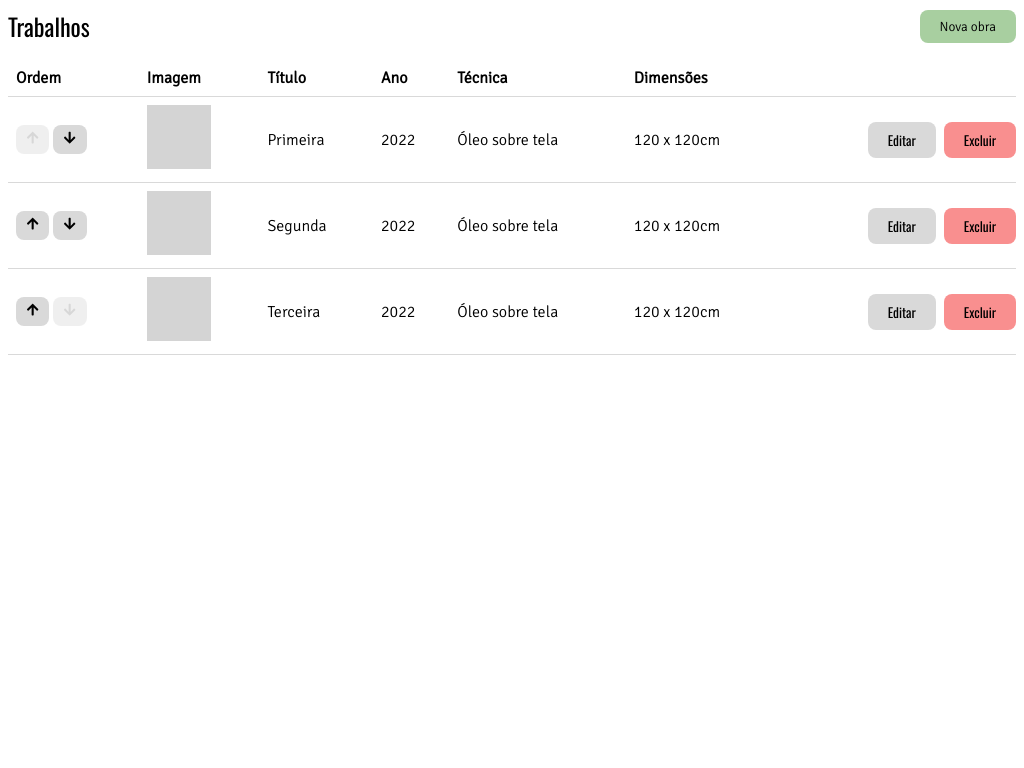
requires a title and an image for a new obra
Expected: the text "Primeira" is shown, x1=260 y1=96 x2=373 y2=182
Click the button "Nova obra". click: (968, 26)
box: x1=920 y1=10 x2=1016 y2=42
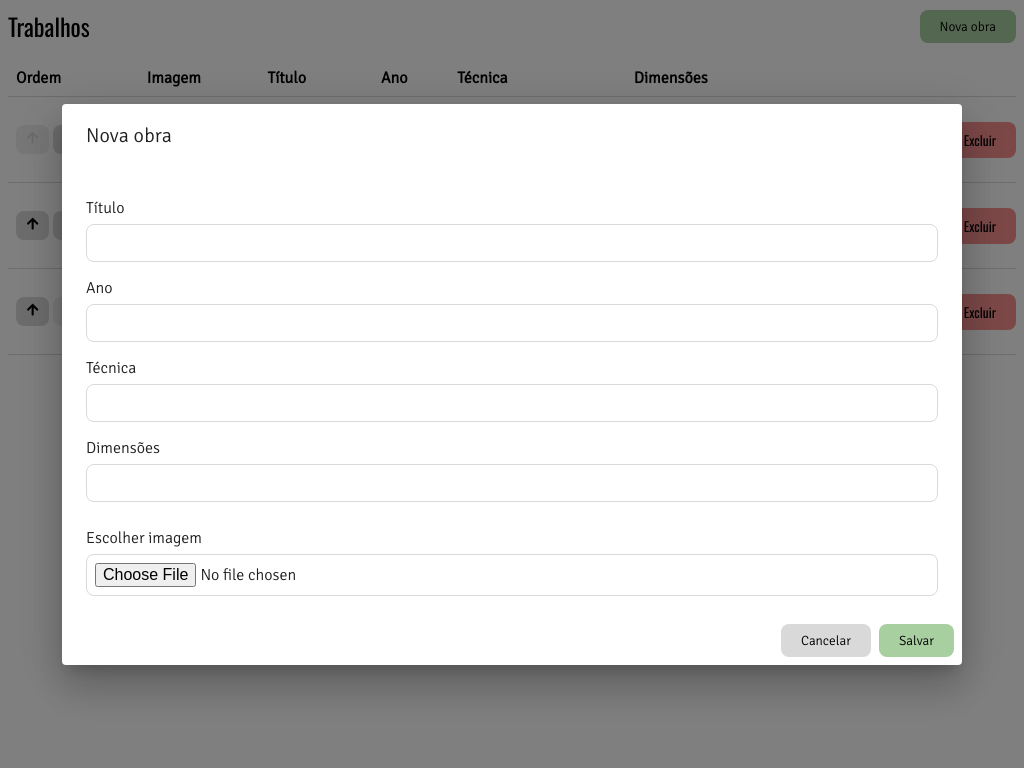
Click the button "Salvar". click: (916, 640)
box: x1=879 y1=624 x2=954 y2=656
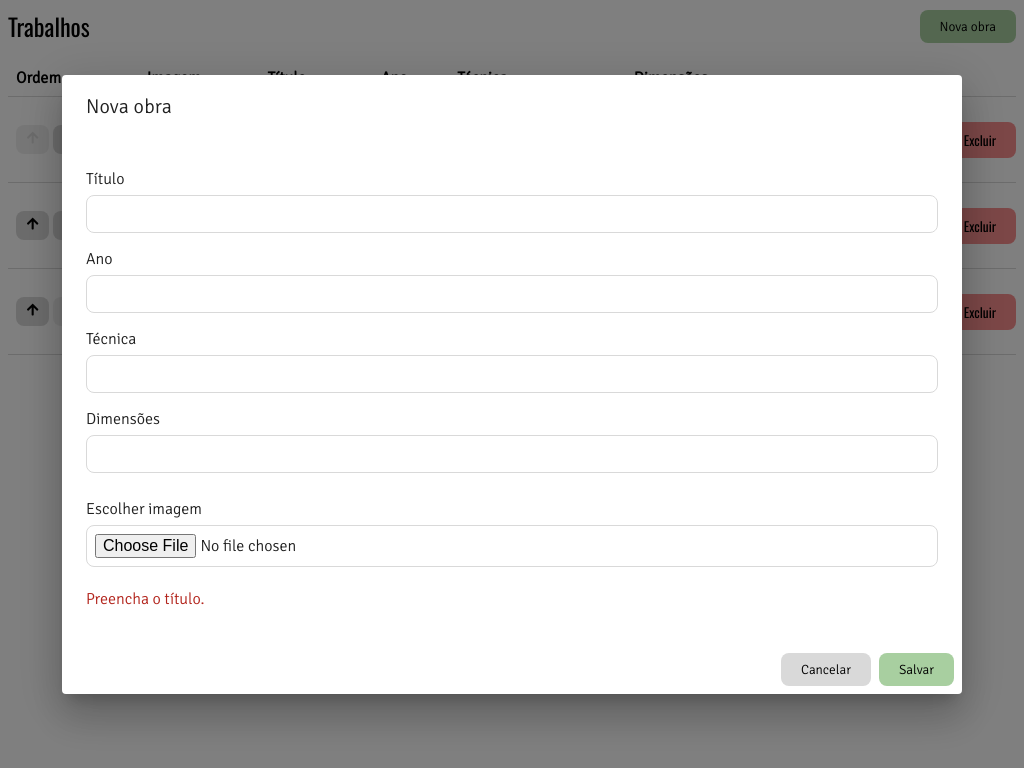
Now the message reads "Preencha o título.", box x1=86 y1=588 x2=205 y2=608
Type "Nova" into the field labelled "Título". click: (512, 214)
box: x1=86 y1=194 x2=938 y2=232
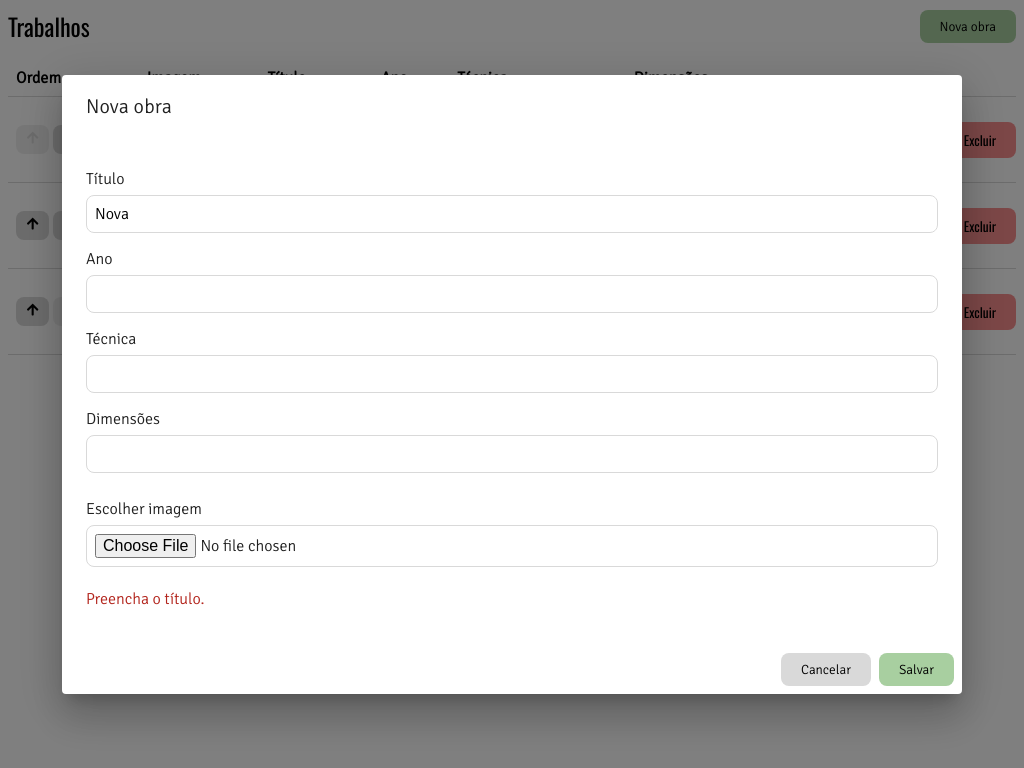
Click the button "Salvar". click: (916, 669)
box: x1=879 y1=652 x2=954 y2=686
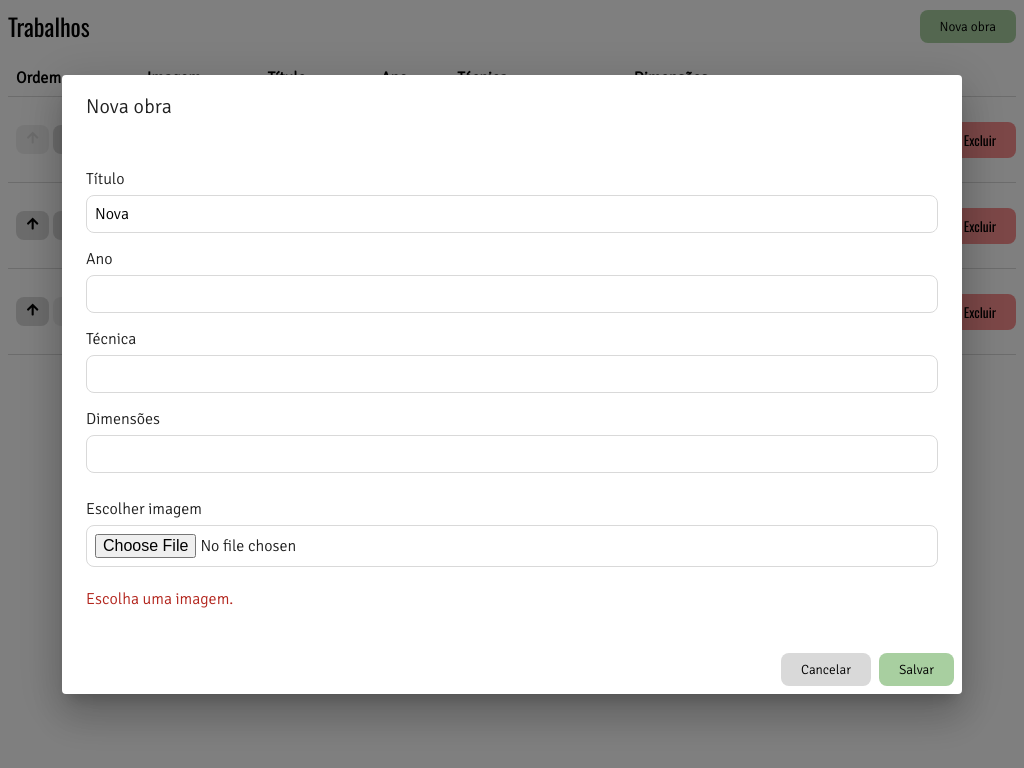
Now the message reads "Escolha uma imagem.", box x1=86 y1=588 x2=233 y2=608
